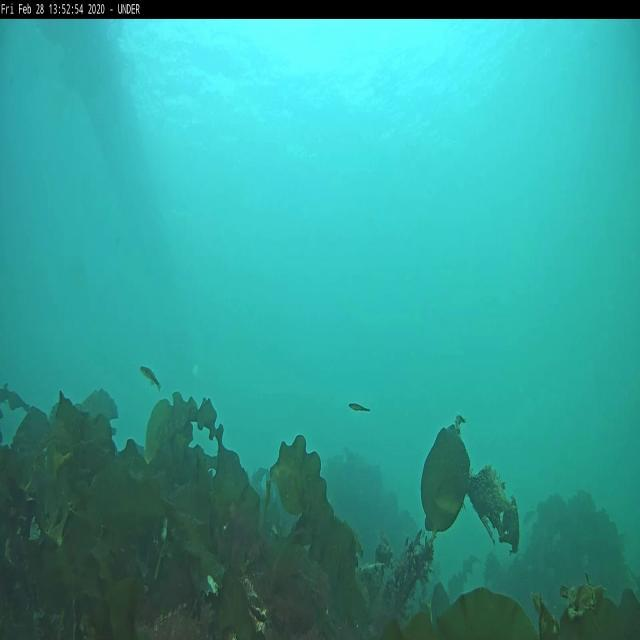fish: (141, 366, 162, 390), (346, 402, 369, 410)
